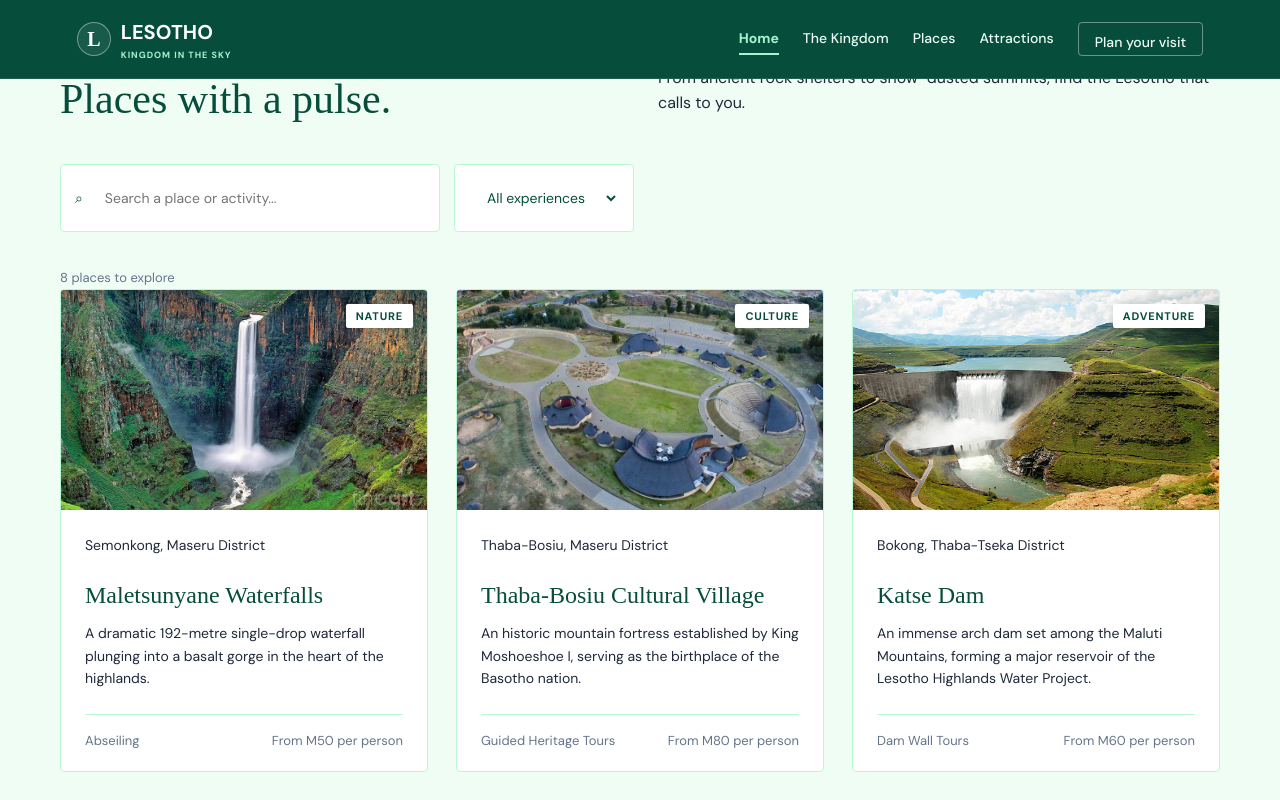
opens and closes attraction details
(page scrolled)
What coordinates should you click on to do the following:
click the button with aria-label "View Maletsunyane Waterfalls details"
I would click on:
 (244, 400)
Its box is x1=61 y1=290 x2=427 y2=510.
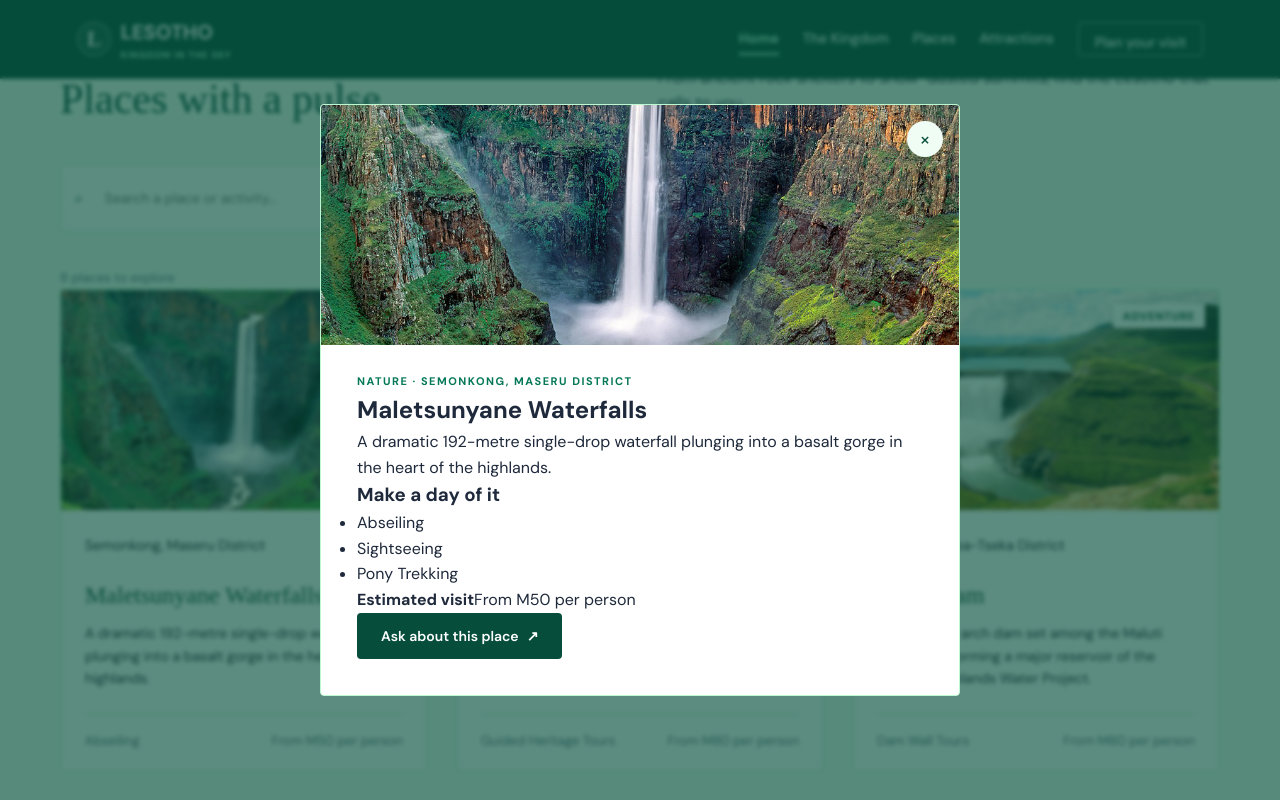
Check: the dialog shows "Semonkong, Maseru District", box x1=421 y1=374 x2=633 y2=388
What coordinates should you click on to do the following:
click the button named "Close details"
I would click on:
 (925, 139)
Its box is x1=907 y1=121 x2=943 y2=157.
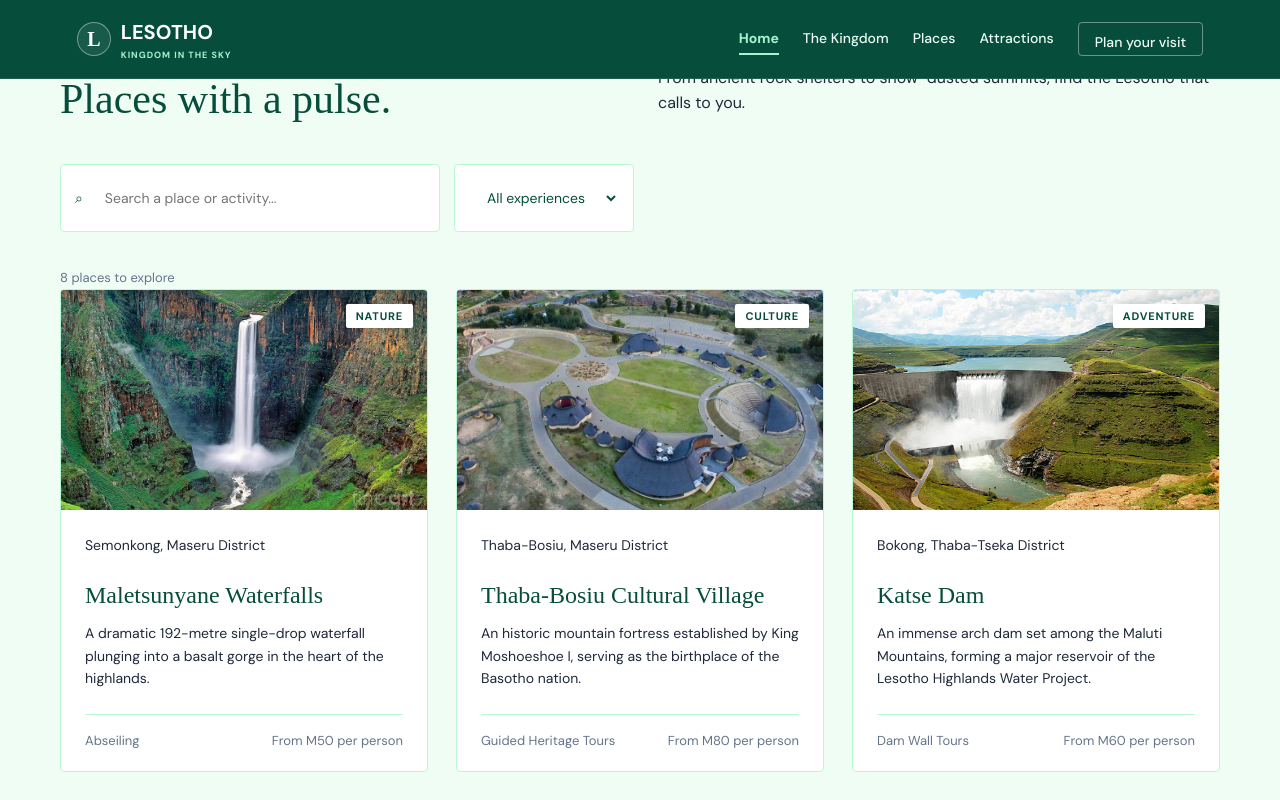
Check: the dialog is gone
